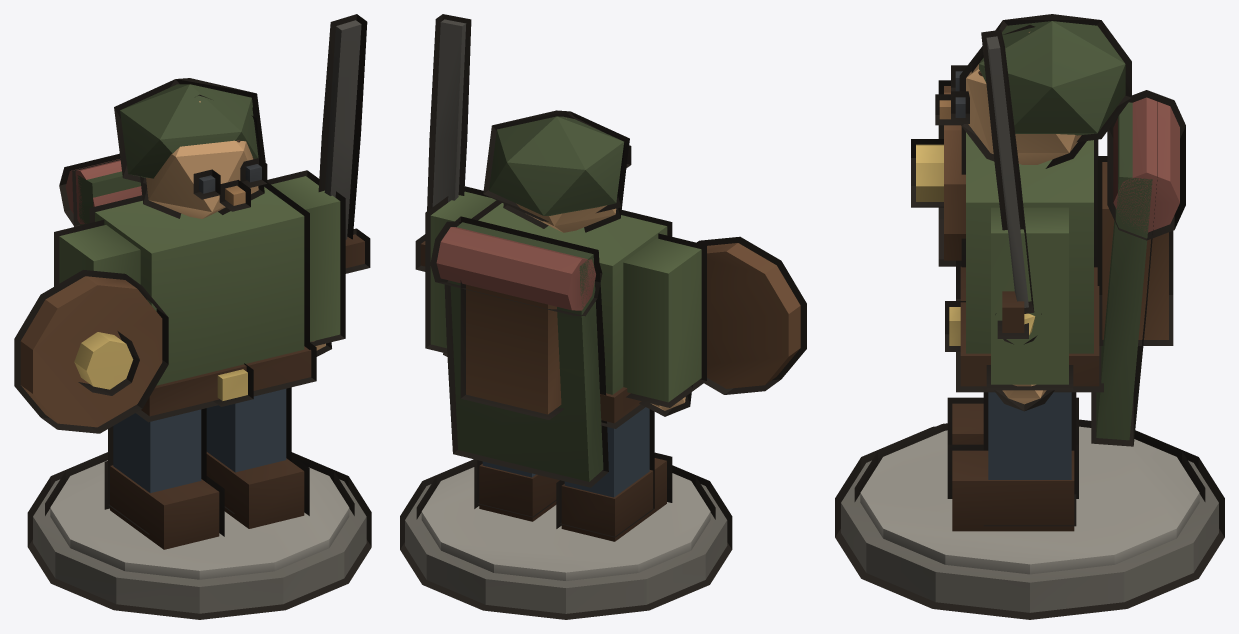
The model's file is pnj_aventurier.glb.
3 renders of one model, left to right at view 1: azimuth 30°, elevation 25°; view 2: azimuth 150°, elevation 25°; view 3: azimuth 270°, elevation 25°, orthographic. The views are drawn at different scales.
Visible parts, largest first — view 1: pnj_aventurier, pnj_aventurier_outline; view 2: pnj_aventurier, pnj_aventurier_outline; view 3: pnj_aventurier, pnj_aventurier_outline.
Part boxes in pixels (x1,y1,x2,y2): pnj_aventurier: [20, 20, 366, 613]; pnj_aventurier_outline: [14, 14, 371, 619]; pnj_aventurier: [405, 19, 800, 613]; pnj_aventurier_outline: [400, 14, 806, 619]; pnj_aventurier: [841, 21, 1218, 612]; pnj_aventurier_outline: [835, 14, 1224, 619].
Bounding box in the file's own units: 0.8604 × 1.14 × 0.7012.
